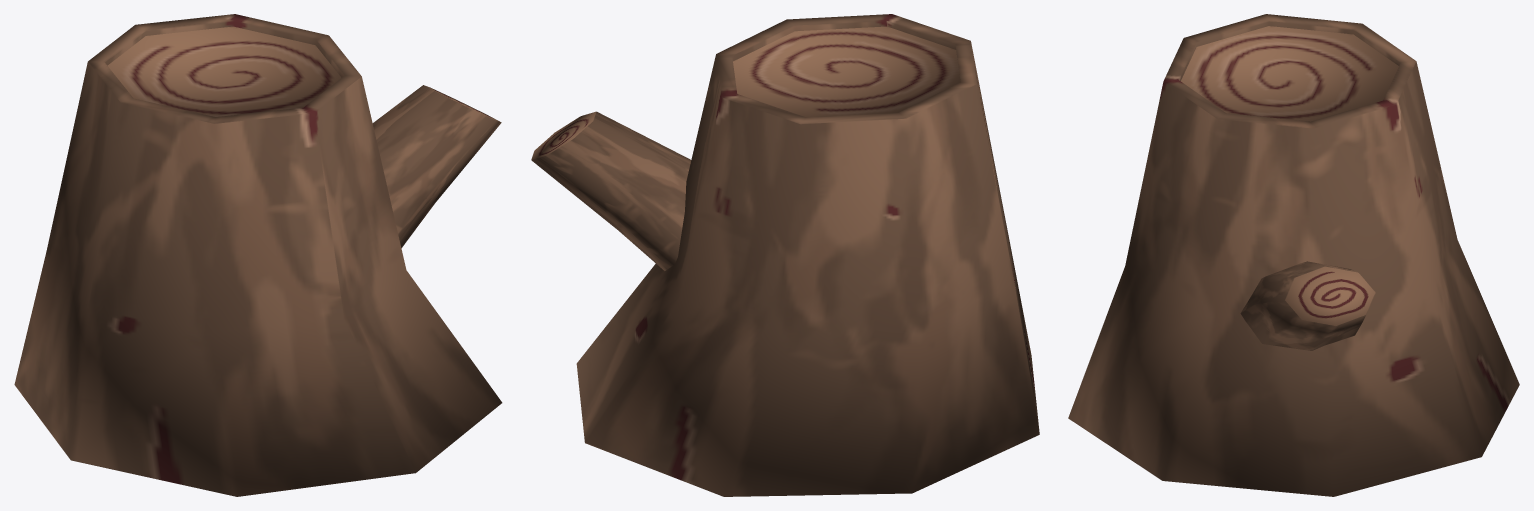
Rendered from log_02.glb.
The picture shows the model from 3 angles, left to right: view 1: azimuth 30°, elevation 25°; view 2: azimuth 150°, elevation 25°; view 3: azimuth 270°, elevation 25°; orthographic projection. The views are drawn at different scales.
Visible parts, largest first — view 1: Tree_log.002; view 2: Tree_log.002; view 3: Tree_log.002.
Boxes of the visible parts, x1=… form: Tree_log.002: x1=14, y1=14, x2=502, y2=496; Tree_log.002: x1=531, y1=14, x2=1039, y2=496; Tree_log.002: x1=1068, y1=14, x2=1519, y2=496.
Size of the model in its own units: 4.09 by 2.89 by 3.73.
Materials: 1 (1 with a texture image).
